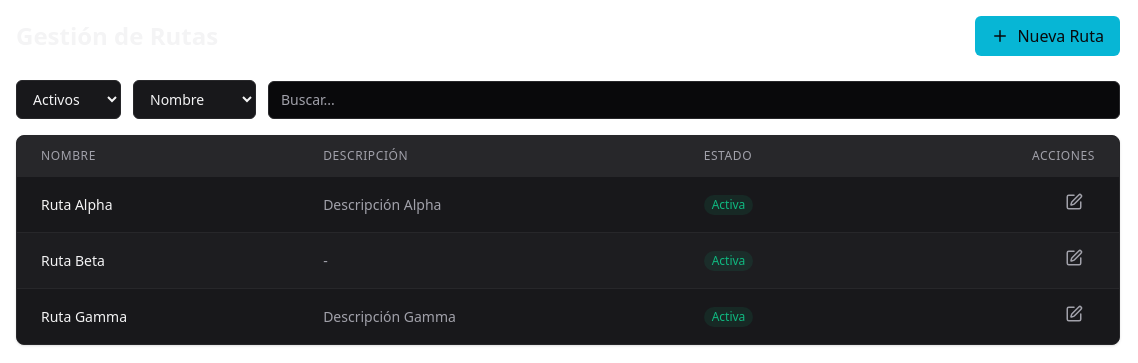
RutasPage › typing search text filters activos by nombre; clearing restores full list
The width and height of the screenshot is (1138, 363).
Expected: the text "Ruta Alpha" is shown, x1=17 y1=176 x2=299 y2=232
Type "alpha" into the field with placeholder "Buscar..." at (694, 100), box x1=268 y1=80 x2=1120 y2=118
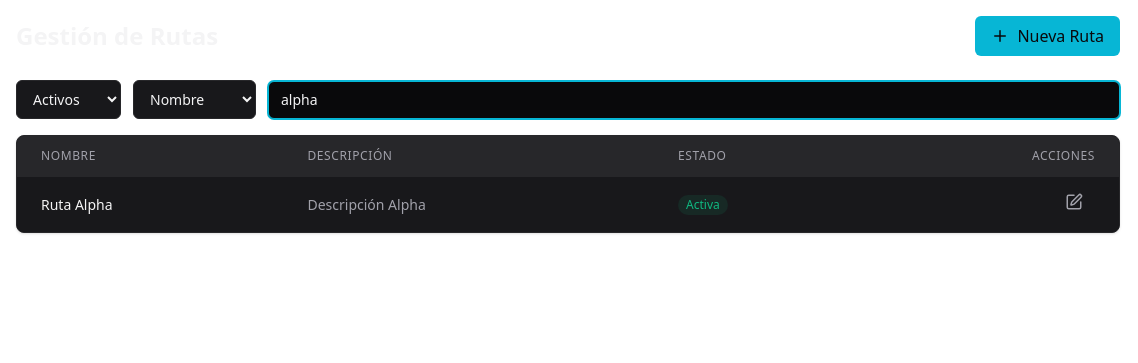
Expected: the text "Ruta Alpha" is shown, x1=17 y1=176 x2=284 y2=232
Result: the text "Ruta Beta" is gone
Clear the field with placeholder "Buscar..." at (694, 100), box x1=268 y1=80 x2=1120 y2=118
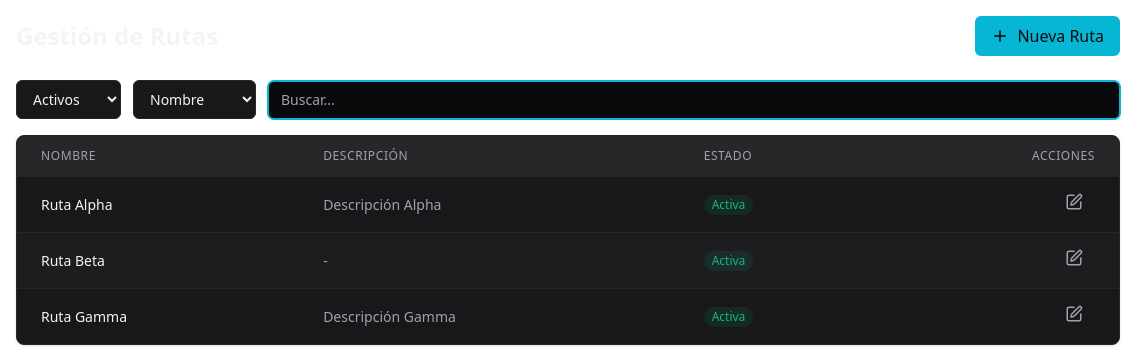
Result: the text "Ruta Beta" is shown at x1=17 y1=232 x2=299 y2=288
